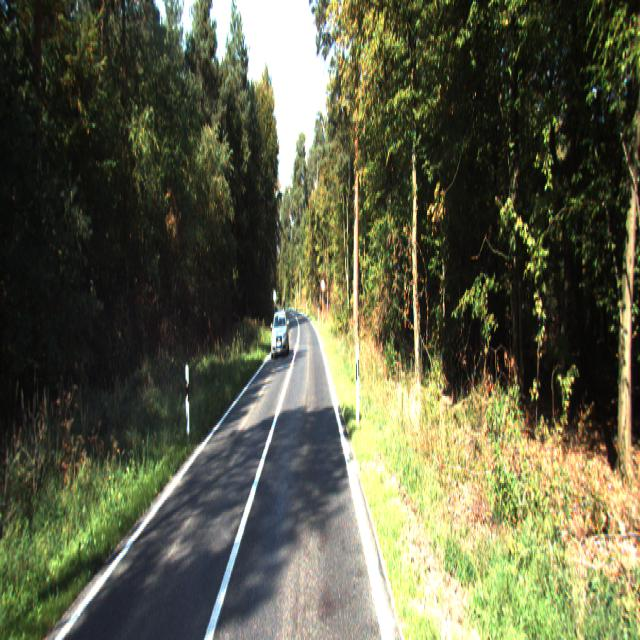Car: (270, 310, 290, 359)
